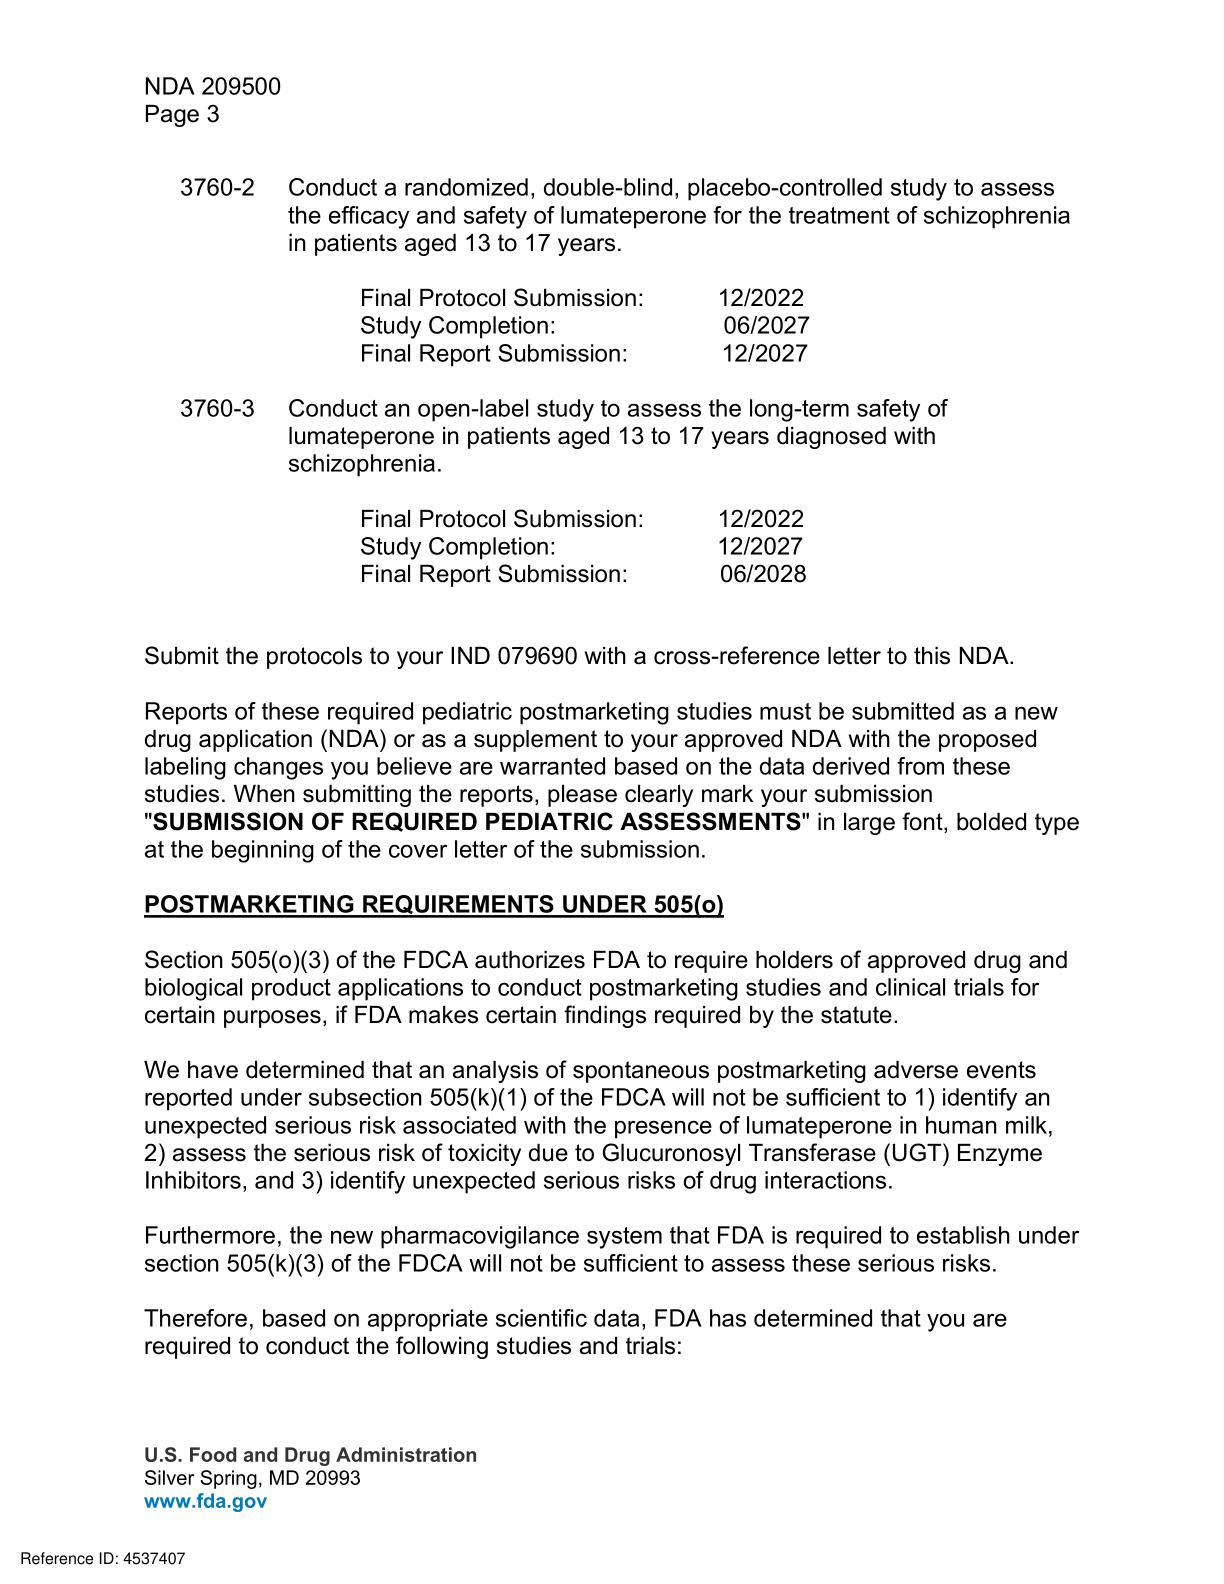nolines: (356, 283, 810, 366), (359, 503, 806, 586)
